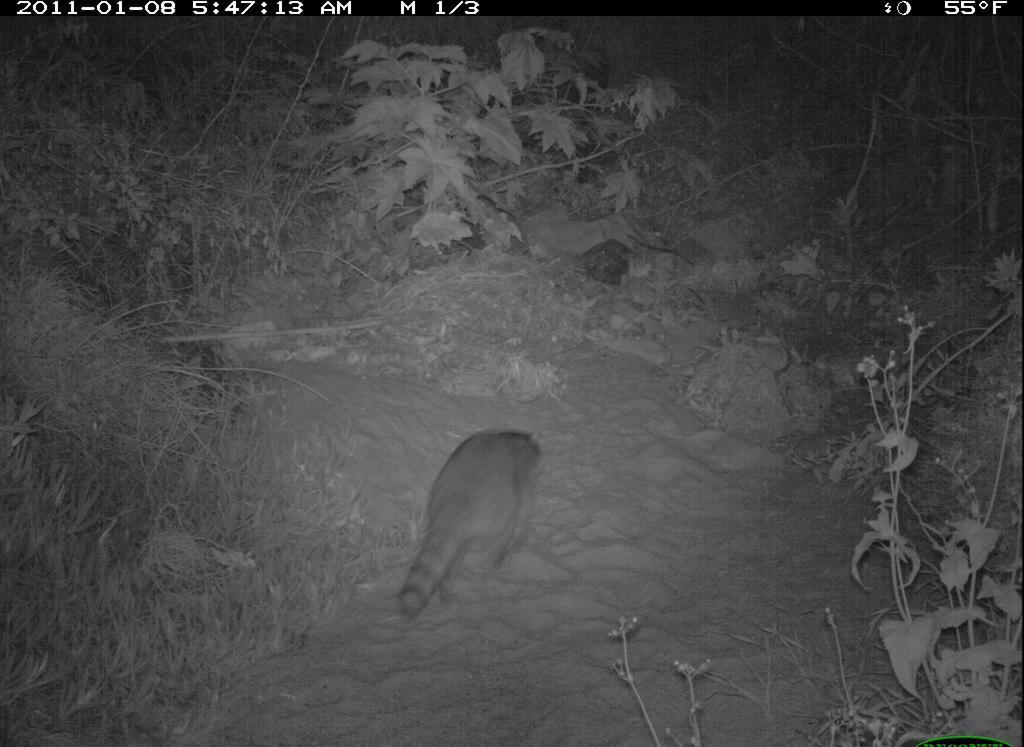raccoon: (395, 425, 547, 625)
